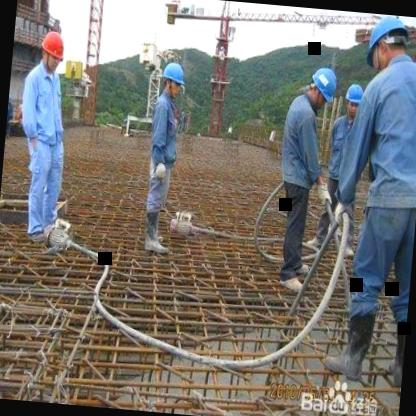helmet: (360, 13, 412, 73), (306, 64, 336, 110), (38, 28, 67, 74), (160, 60, 188, 103), (343, 81, 369, 119)
